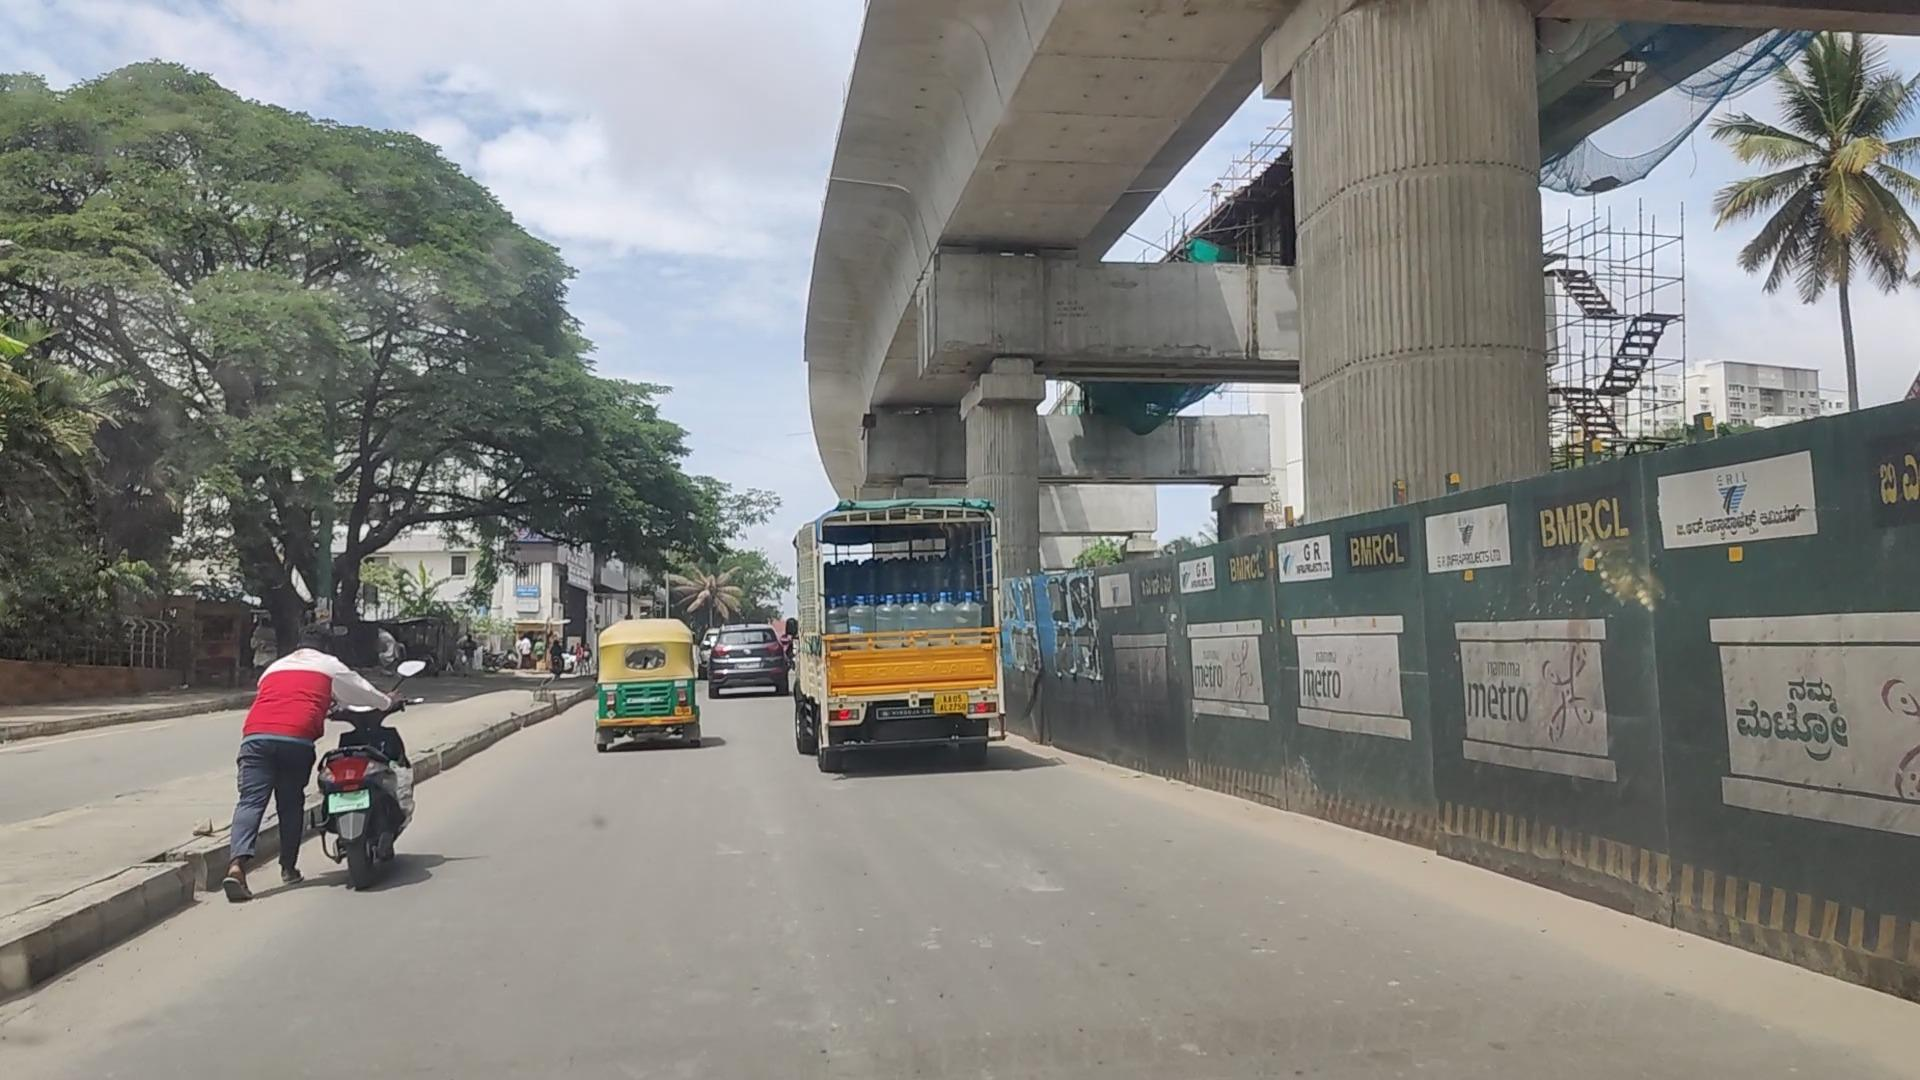HMV: (794, 500, 1004, 760)
LMV: (603, 616, 705, 756)
